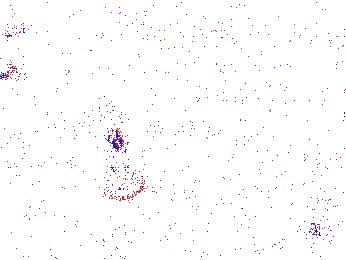flame jellyfish: (91, 131, 145, 200), (309, 188, 346, 244), (1, 46, 17, 80)
